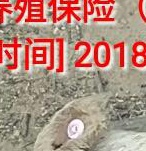text: (60, 111, 92, 144)
